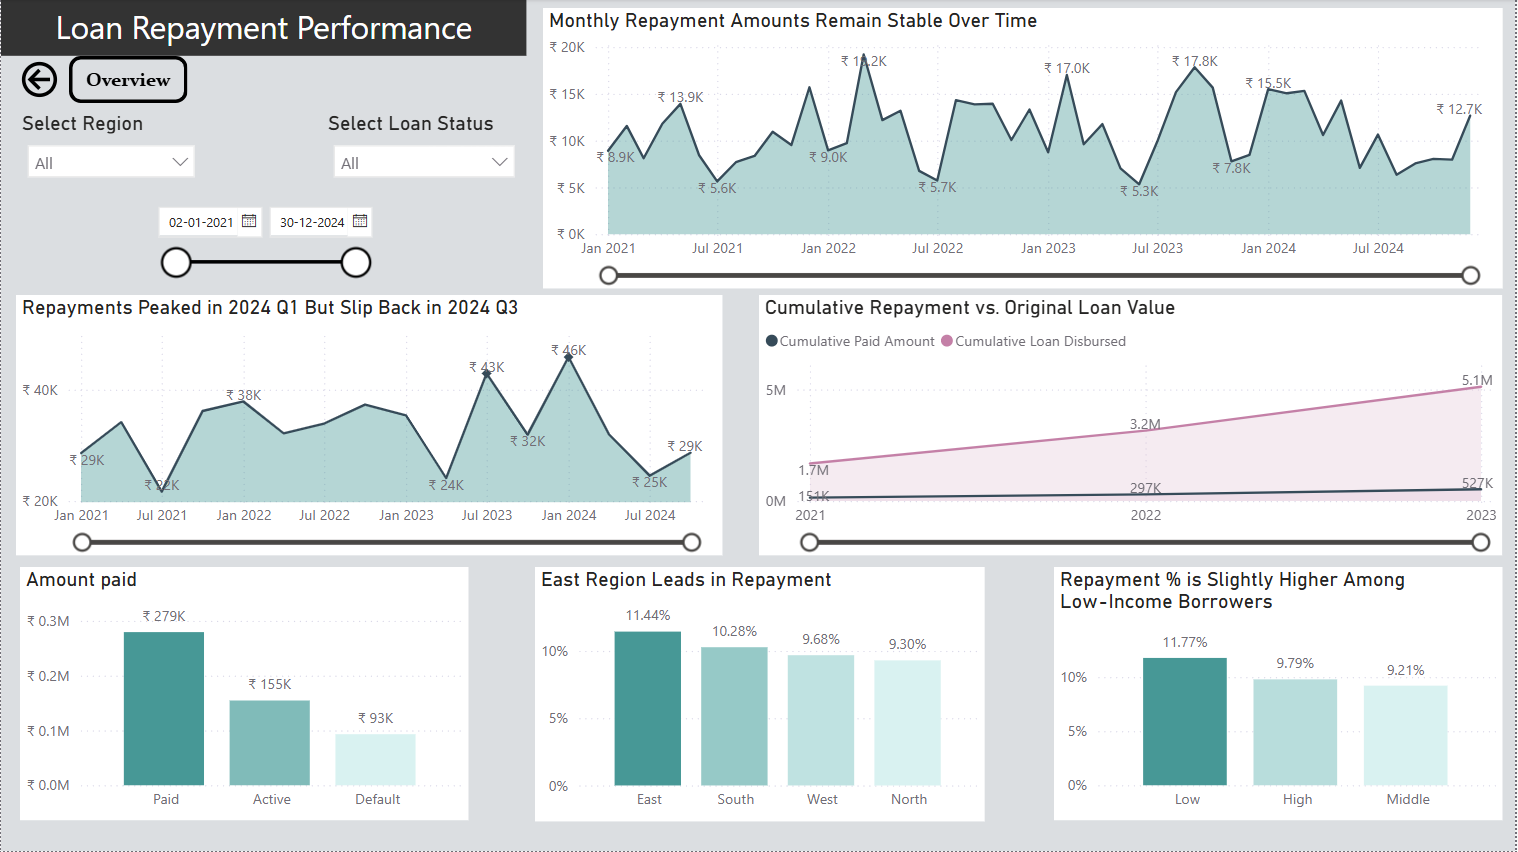

This screenshot's page, from the dashboard's own definition file:
{"tool":"powerbi","page":{"name":"Loan Repayment Performance","canvas":[1280,720],"ordinal":3},"visuals":[{"type":"lineChart","title":"Monthly Repayment Amounts Remain Stable Over Time","fields":{"Y":["M_Table.Total Paid Amount"],"Category":["Payments.Date.Variation.Date Hierarchy.Year","Payments.Date.Variation.Date Hierarchy.Month"]},"box":[458.2,7.6,810.5,237.1],"z":1000},{"type":"lineChart","title":"Repayments Peaked in 2024 Q1 But Slip Back in 2024 Q3","fields":{"Y":["M_Table.Total Paid Amount"],"Category":["Payments.Date.Variation.Date Hierarchy.Year","Payments.Date.Variation.Date Hierarchy.Quarter"]},"box":[12.3,250.3,597,220.1],"z":2000},{"type":"slicer","fields":{"Values":["Payments.Date"]},"box":[120,165.7,201.4,78.6],"z":3000},{"type":"slicer","title":"Select Region","fields":{"Values":["Customers.Region"]},"box":[12.9,94.3,161.4,80],"z":4000},{"type":"slicer","title":"Select Loan Status","fields":{"Values":["Loans.Status"]},"box":[271.4,94.3,172.9,80],"z":5000},{"type":"columnChart","title":"Amount paid ","fields":{"Category":["Loans.Status"],"Y":["M_Table.Total Paid Amount"]},"box":[16.1,479.9,378.8,214.4],"z":6000},{"type":"lineChart","title":"Cumulative Repayment vs. Original Loan Value ","fields":{"Category":["DateTable.Date.Variation.Date Hierarchy.Year","DateTable.Date.Variation.Date Hierarchy.Quarter","DateTable.Date.Variation.Date Hierarchy.Month","DateTable.Date.Variation.Date Hierarchy.Day"],"Y":["M_Table.Cumulative Paid Amount","M_Table.Cumulative Loan Disbursed"]},"box":[640.5,250.3,628.2,220.1],"z":7000},{"type":"columnChart","title":"East Region Leads in Repayment","fields":{"Y":["M_Table.Repayment %"],"Category":["Customers.Region"]},"box":[451.1,479.8,379.6,214.6],"z":8000},{"type":"columnChart","title":"Repayment % is Slightly Higher Among Low-Income Borrowers","fields":{"Y":["M_Table.Repayment %"],"Category":["Customers.Income_Group"]},"box":[889.9,479.9,378.8,214.4],"z":9000},{"type":"actionButton","box":[57.6,48.2,100.1,39.7],"z":10000},{"type":"actionButton","box":[12.3,48.2,45.3,39.7],"z":11000},{"type":"textbox","box":[0,0,444.2,48.3],"z":12000}]}

Visuals, with their boxes in screenshot pixels (x1, y1, x2, y2), scaled from the page's 1280x720 canvas onto the 1518x852 screenshot:
"Monthly Repayment Amounts Remain Stable Over Time" lineChart: (543, 9, 1505, 290)
"Repayments Peaked in 2024 Q1 But Slip Back in 2024 Q3" lineChart: (15, 296, 723, 557)
slicer - Payments.Date: (142, 196, 381, 289)
"Select Region" slicer: (15, 112, 207, 206)
"Select Loan Status" slicer: (322, 112, 527, 206)
"Amount paid " columnChart: (19, 568, 468, 822)
"Cumulative Repayment vs. Original Loan Value " lineChart: (760, 296, 1505, 557)
"East Region Leads in Repayment" columnChart: (535, 568, 985, 822)
"Repayment % is Slightly Higher Among Low-Income Borrowers" columnChart: (1055, 568, 1505, 822)
actionButton: (68, 57, 187, 104)
actionButton: (15, 57, 68, 104)
textbox: (0, 0, 527, 57)
